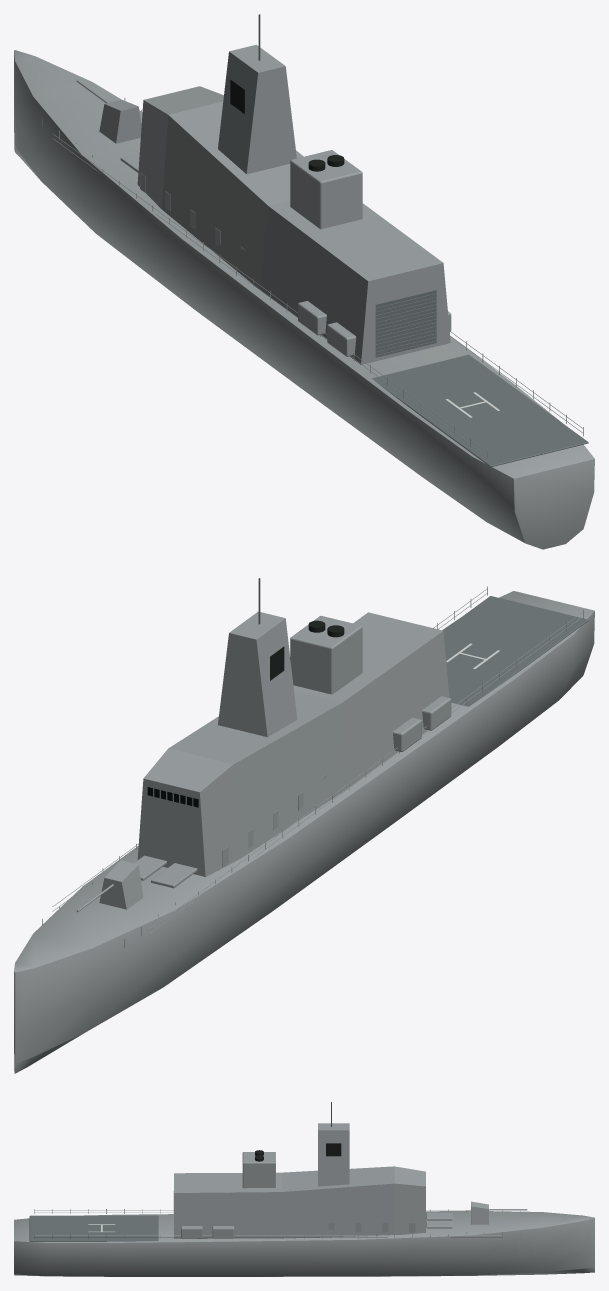
Rendered from chungnam.glb.
3 renders of one model, top to bottom at view 1: azimuth 30°, elevation 25°; view 2: azimuth 150°, elevation 25°; view 3: azimuth 270°, elevation 25°, orthographic. The views are drawn at different scales.
Parts seen in each view (by area): view 1: Hull_Naval painted steel, Hull_Nonslip deck, Turret_Naval painted steel, Hull_Recess; view 2: Hull_Naval painted steel, Hull_Nonslip deck, Turret_Naval painted steel, Hull_Recess; view 3: Hull_Naval painted steel, Hull_Nonslip deck, Turret_Naval painted steel, Hull_Recess.
Part boxes in pixels (<box>): Hull_Naval painted steel: <box>14,44,594,549</box>; Hull_Nonslip deck: <box>372,290,588,466</box>; Turret_Naval painted steel: <box>76,80,141,143</box>; Hull_Recess: <box>230,79,344,171</box>; Hull_Naval painted steel: <box>14,586,594,1073</box>; Hull_Nonslip deck: <box>443,596,588,706</box>; Turret_Naval painted steel: <box>76,860,143,912</box>; Hull_Recess: <box>270,620,344,680</box>; Hull_Naval painted steel: <box>14,1123,594,1276</box>; Hull_Nonslip deck: <box>29,1215,158,1241</box>; Turret_Naval painted steel: <box>471,1201,527,1224</box>; Hull_Recess: <box>255,1143,341,1161</box>.
Bounding box in the file's own units: 14.8 × 41.7 × 129.
7 materials, 1 textured.
